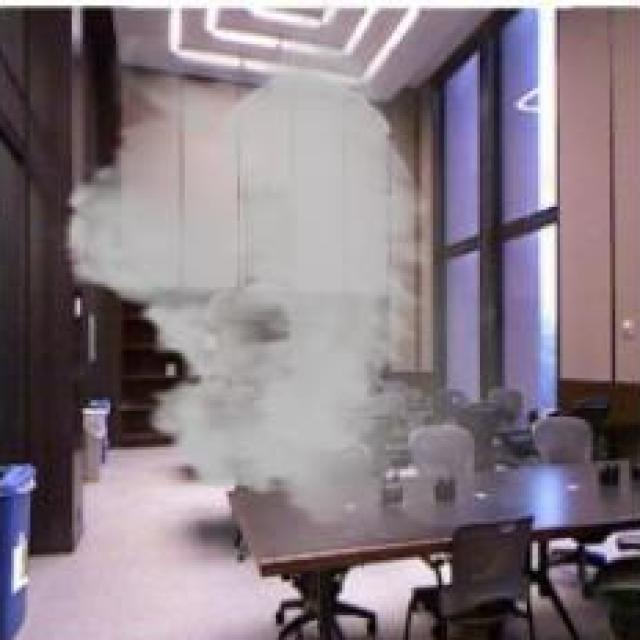fire: (61, 41, 505, 538)
